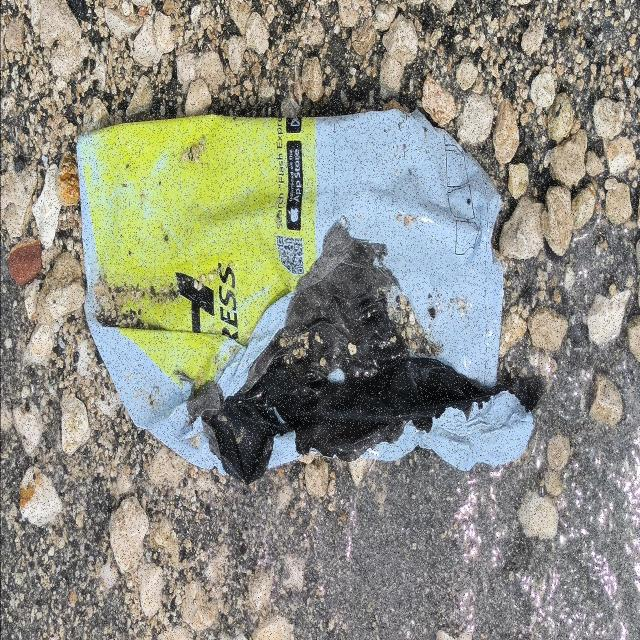plastic_waste: (77, 110, 534, 486)
